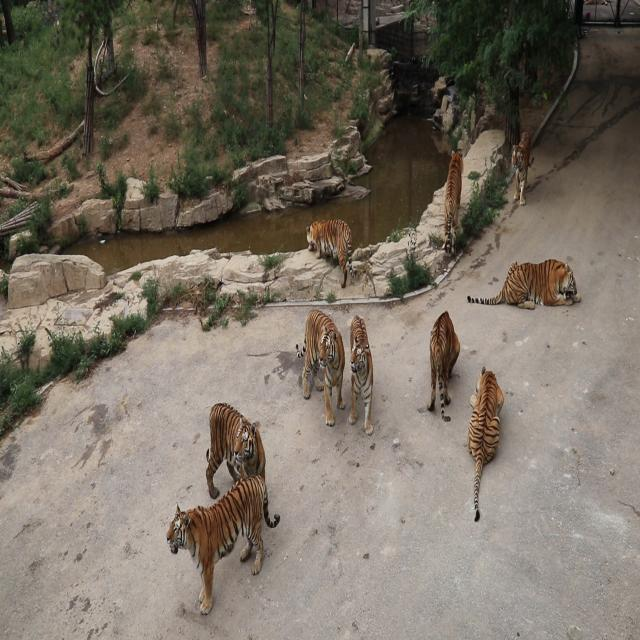Tiger: (165, 472, 282, 614), (293, 307, 346, 428), (465, 364, 504, 524), (204, 399, 266, 499), (467, 257, 581, 308), (346, 316, 386, 444), (426, 309, 462, 423), (305, 217, 356, 287), (441, 146, 463, 252), (510, 128, 534, 206)
